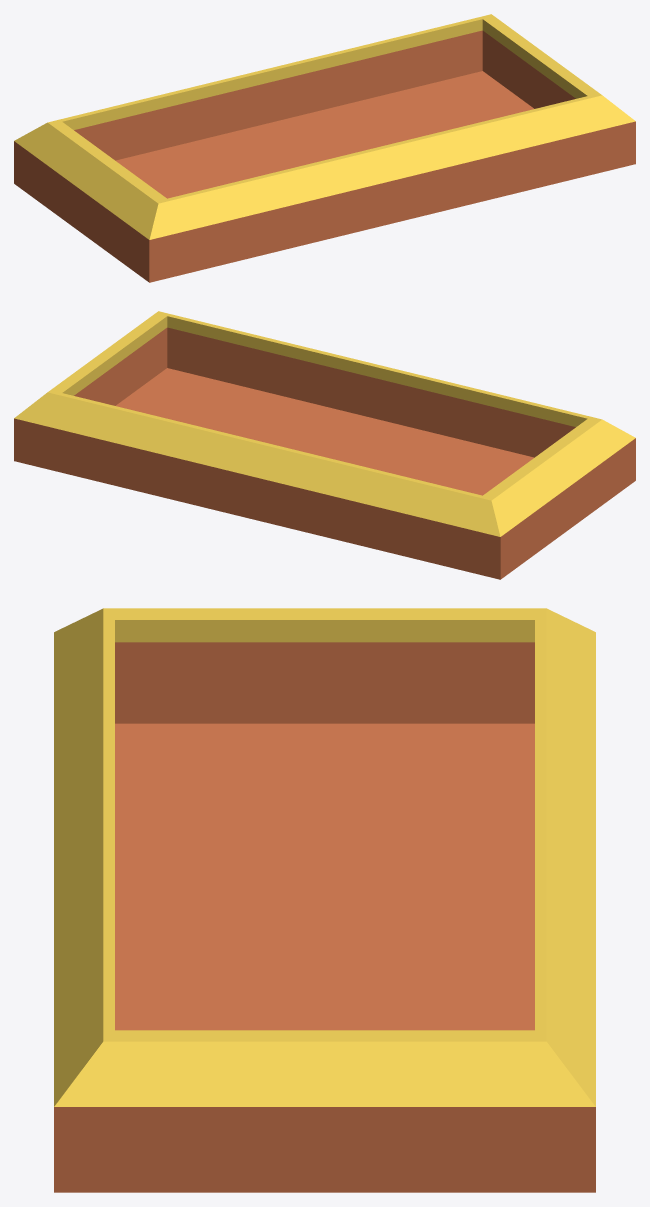
Rendered from SWAG.fbx.
The picture shows the model from 3 angles, top to bottom: view 1: azimuth 30°, elevation 25°; view 2: azimuth 150°, elevation 25°; view 3: azimuth 270°, elevation 25°; orthographic projection. The views are drawn at different scales.
Parts seen in each view (by area): view 1: Cube; view 2: Cube; view 3: Cube.
Boxes of the visible parts, x1,y1,x2,y2 form: Cube: (14,14,635,282); Cube: (14,311,635,579); Cube: (54,608,595,1192).
Size of the model in its own units: 200 by 25.53 by 96.46.
